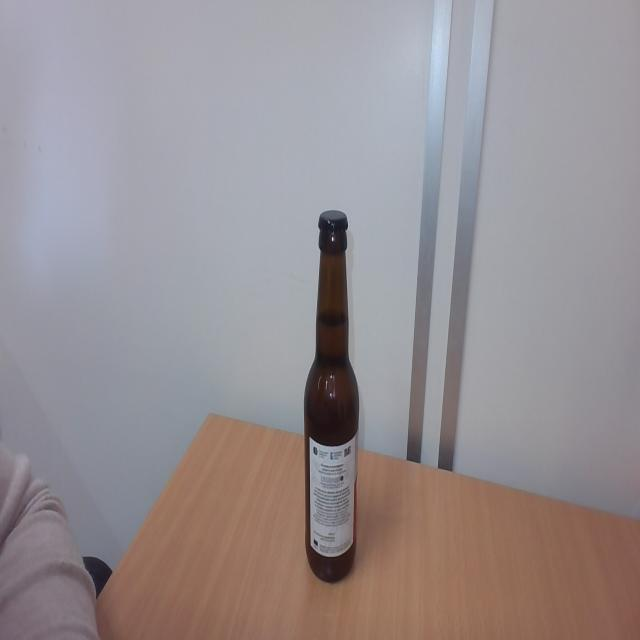Bottle: (303, 241, 360, 584)
Cap: (316, 206, 350, 238)
Label: (308, 436, 360, 554)
